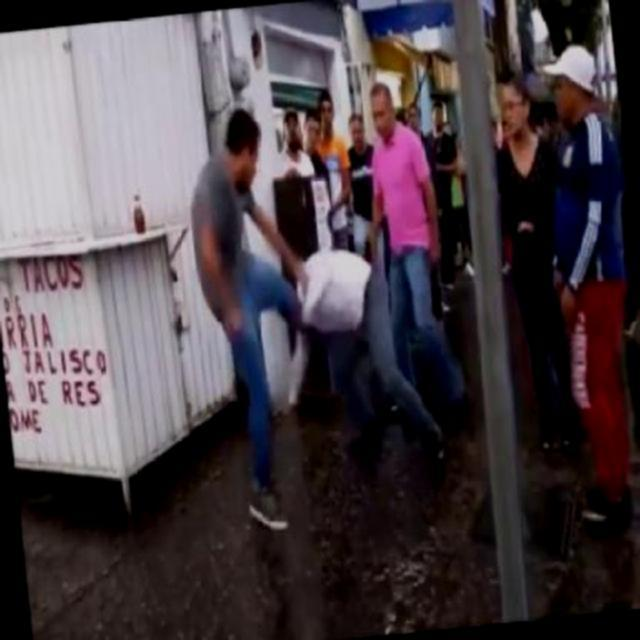fight: (180, 92, 412, 514)
